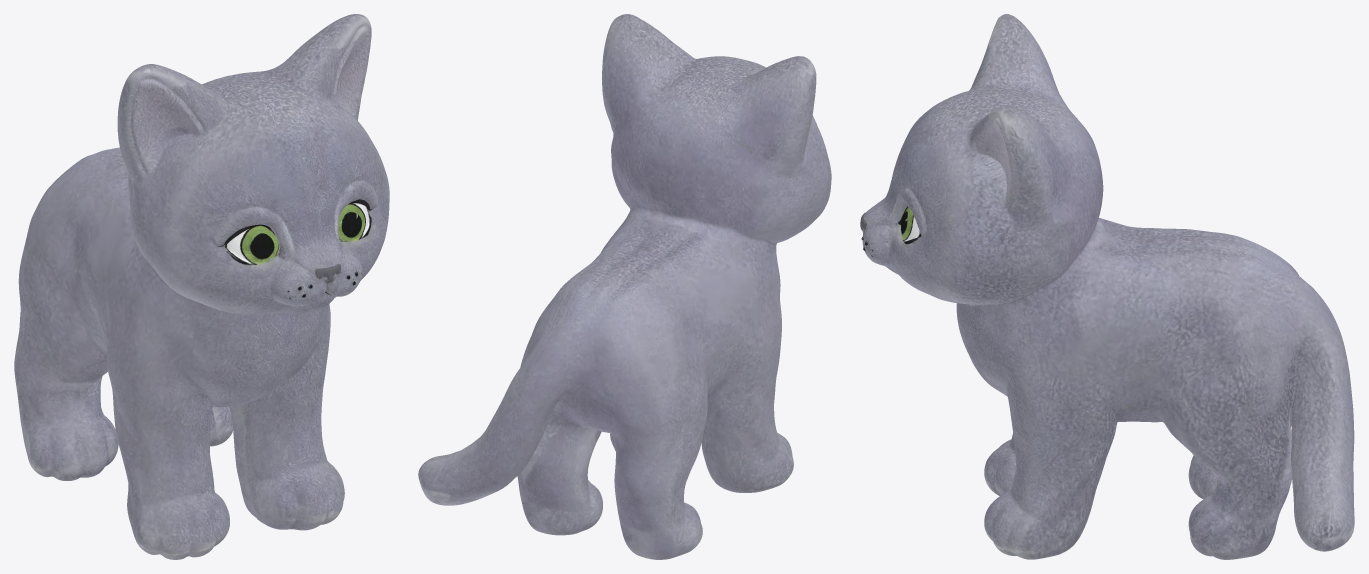
File: meshy-chartreux.glb
The picture shows the model from 3 angles, left to right: view 1: azimuth 30°, elevation 25°; view 2: azimuth 150°, elevation 25°; view 3: azimuth 270°, elevation 25°; orthographic projection. The views are drawn at different scales.
Visible parts, largest first — view 1: Mesh_0; view 2: Mesh_0; view 3: Mesh_0.
Part boxes in pixels (x1,y1,x2,y2): Mesh_0: (14, 14, 389, 559); Mesh_0: (418, 14, 831, 559); Mesh_0: (860, 14, 1354, 559).
Size of the model in its own units: 1.18 by 1.9 by 1.86.
1 material, 1 textured.
